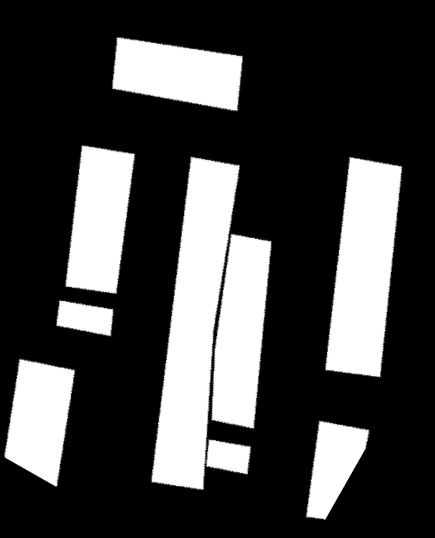parkingspot: (151, 157, 251, 490), (325, 157, 402, 377), (212, 234, 271, 428), (66, 145, 135, 294), (112, 37, 243, 111), (4, 359, 75, 487), (306, 421, 369, 520), (56, 300, 113, 336), (205, 461, 208, 464)
